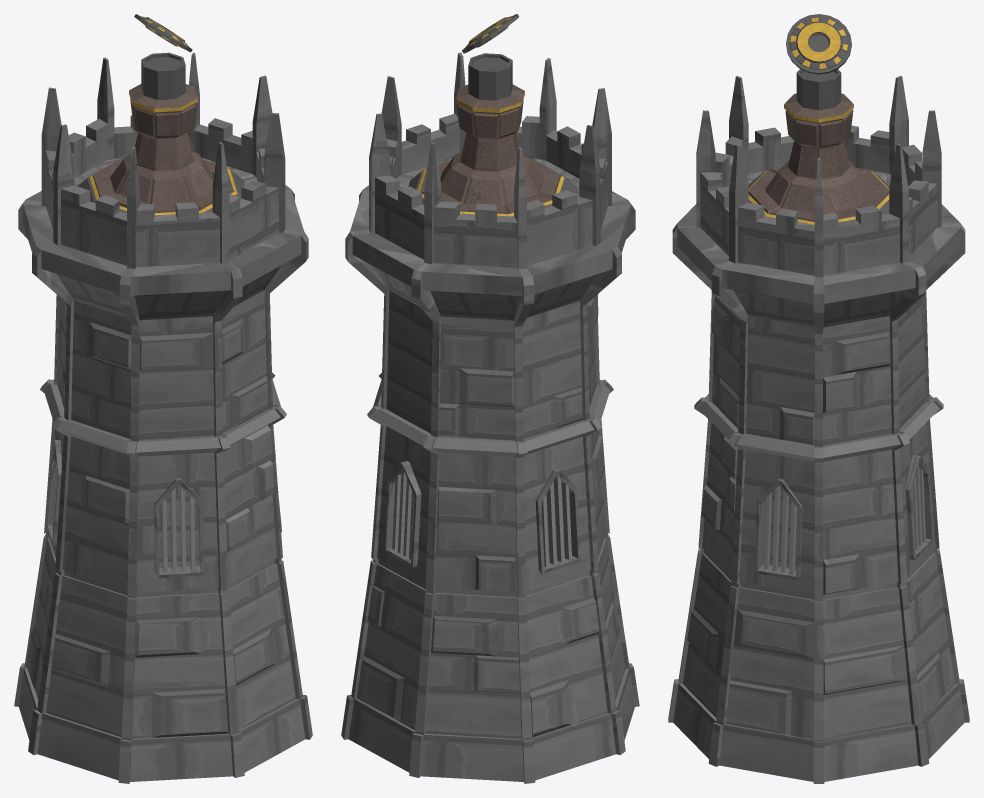
The model's file is att3_defenders.fbx.
3 renders of one model, left to right at view 1: azimuth 30°, elevation 25°; view 2: azimuth 150°, elevation 25°; view 3: azimuth 270°, elevation 25°, orthographic.
Parts seen in each view (by area): view 1: polySurface56; view 2: polySurface56; view 3: polySurface56.
Boxes of the visible parts, x1,y1,x2,y2 form: polySurface56: (14,14,312,783); polySurface56: (341,14,639,783); polySurface56: (668,14,969,783).
Bounding box in the file's own units: 13.87 × 35.35 × 13.87.
5 materials, 4 textured.
